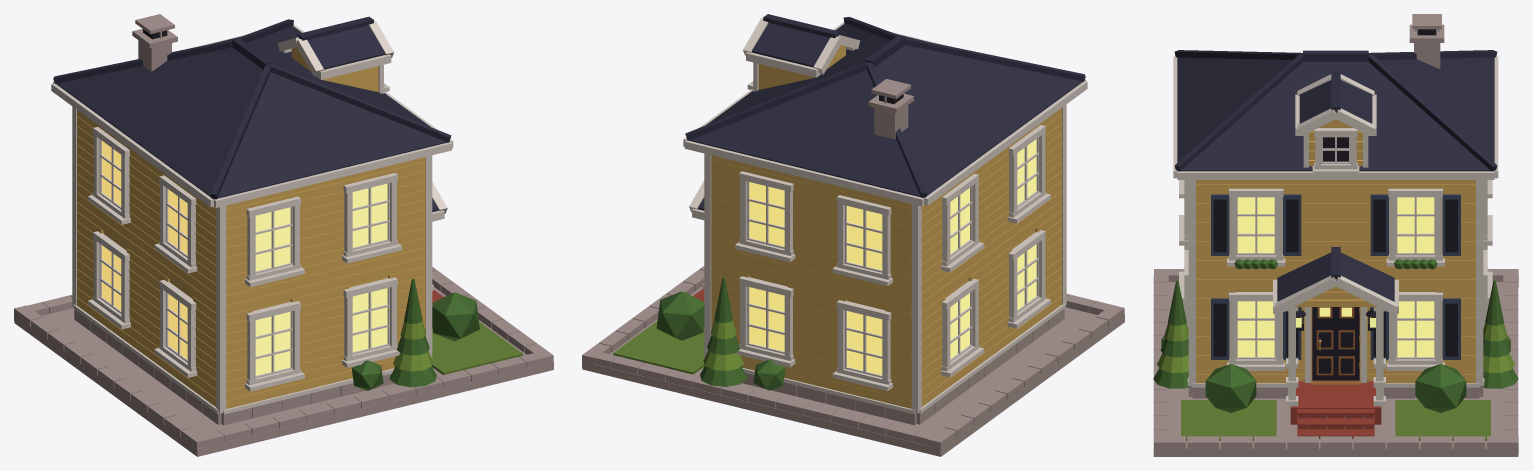
3 renders of one model, left to right at view 1: azimuth 30°, elevation 25°; view 2: azimuth 150°, elevation 25°; view 3: azimuth 270°, elevation 25°, orthographic.
Parts seen in each view (by area): view 1: root_pal_picketWhite, body_pal_picketWhite.001, roof_pal_picketWhite.001, lightsFront_emi_windowGlow; view 2: root_pal_picketWhite, body_pal_picketWhite.001, roof_pal_picketWhite.001, lightsFront_emi_windowGlow; view 3: root_pal_picketWhite, roof_pal_picketWhite.001, body_pal_picketWhite.001, lightsFront_emi_windowGlow, door_front_pal_picketWhite.
Part boxes in pixels (x1,y1,x2,y2): root_pal_picketWhite: [14, 127, 553, 456]; body_pal_picketWhite.001: [72, 106, 443, 425]; roof_pal_picketWhite.001: [51, 14, 453, 221]; lightsFront_emi_windowGlow: [102, 141, 387, 375]; root_pal_picketWhite: [582, 125, 1124, 456]; body_pal_picketWhite.001: [693, 104, 1066, 425]; roof_pal_picketWhite.001: [683, 14, 1087, 220]; lightsFront_emi_windowGlow: [749, 139, 1036, 375]; root_pal_picketWhite: [1153, 180, 1518, 456]; roof_pal_picketWhite.001: [1173, 14, 1498, 313]; body_pal_picketWhite.001: [1187, 180, 1484, 438]; lightsFront_emi_windowGlow: [1237, 197, 1434, 356]; door_front_pal_picketWhite: [1312, 307, 1360, 380].
Bounding box in the file's own units: 9 × 7.5 × 8.02.
